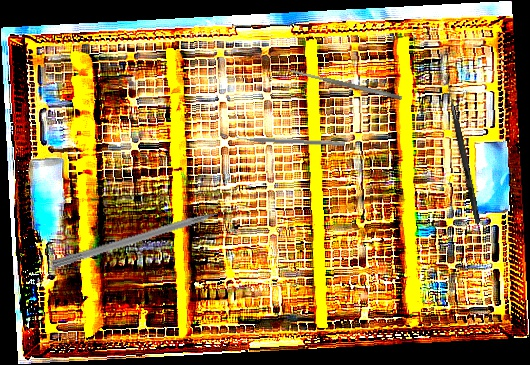Hook Surgical: (441, 74, 483, 225)
Pusher: (51, 202, 243, 271)
Spatula Surgical: (287, 66, 403, 102), (233, 133, 346, 146)
